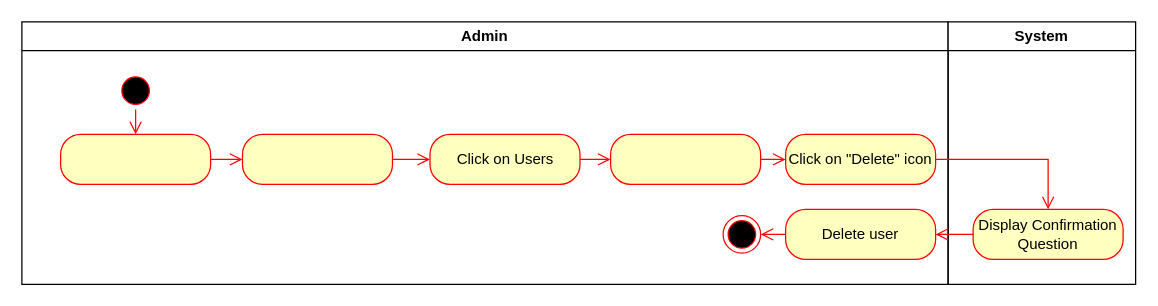
Some shapes in this 1158 by 306 pixel diagram are drawn without their labels. Each missing label, with the centre of its shape:
"Click on a User" goes at [685,158].
"Login" goes at [135,158].
"View Dashboard" goes at [316,158].
